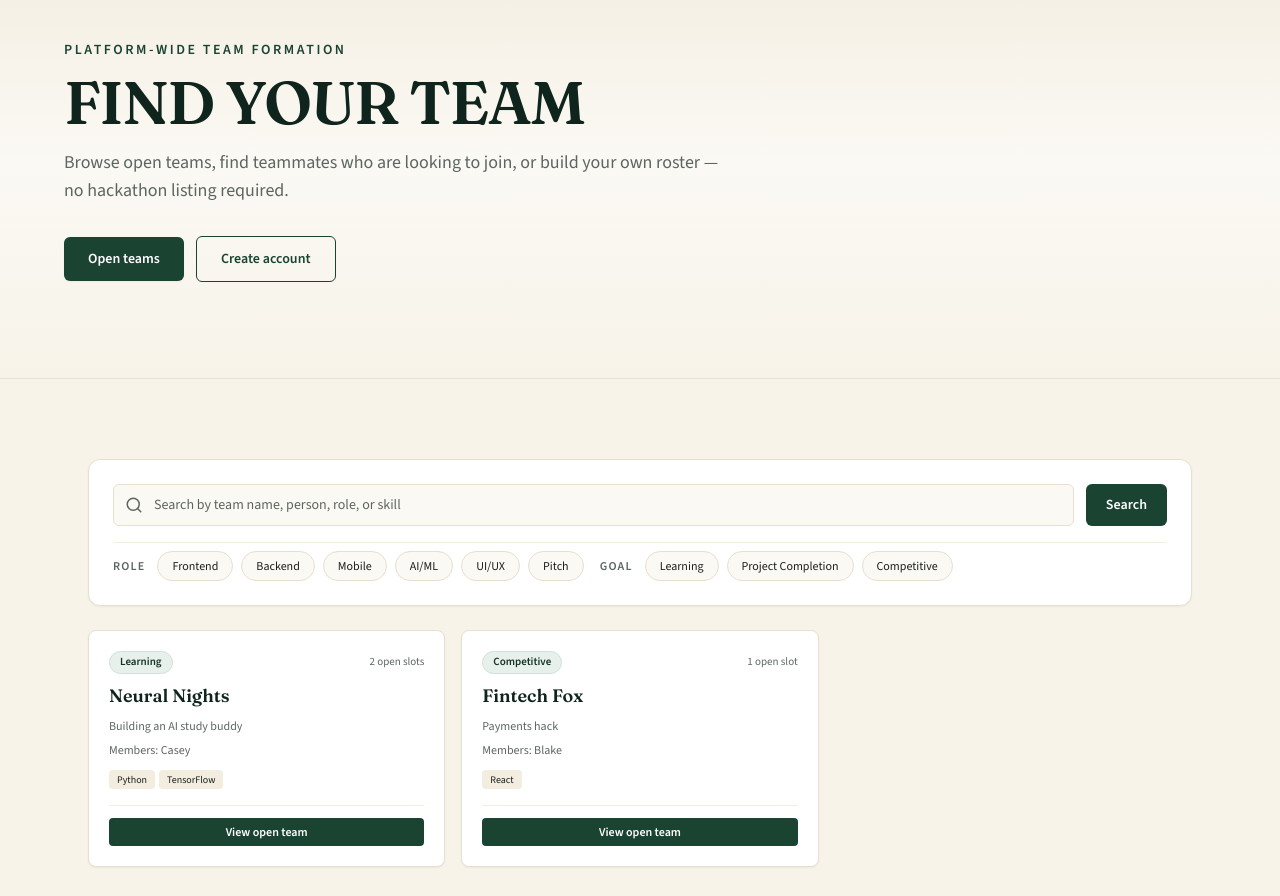
LandingPage (#361 event-free) › shows empty state when search matches nothing
Expected: the heading "Neural Nights" is shown, [109,684,230,706]
Type "zzzz-no-match" into the search field with placeholder "Search by team name, person, role, or skill".
click(593, 505); type("zzzz-no-match")  # box [113,484,1074,526]
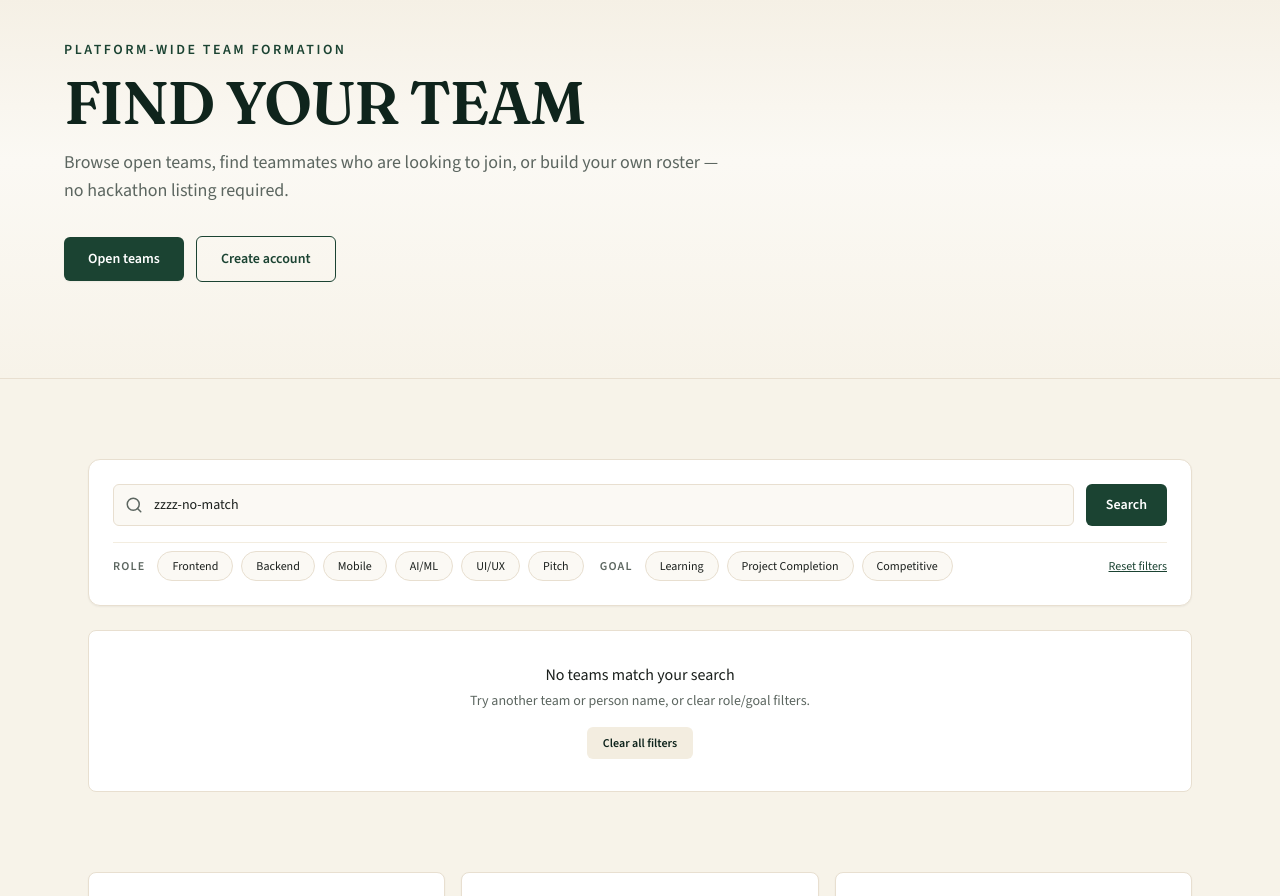
Expected: the text "No teams match your search" is shown, [545,664,735,685]
Click the button "Clear all filters".
click(640, 743)  # box [587,727,693,759]
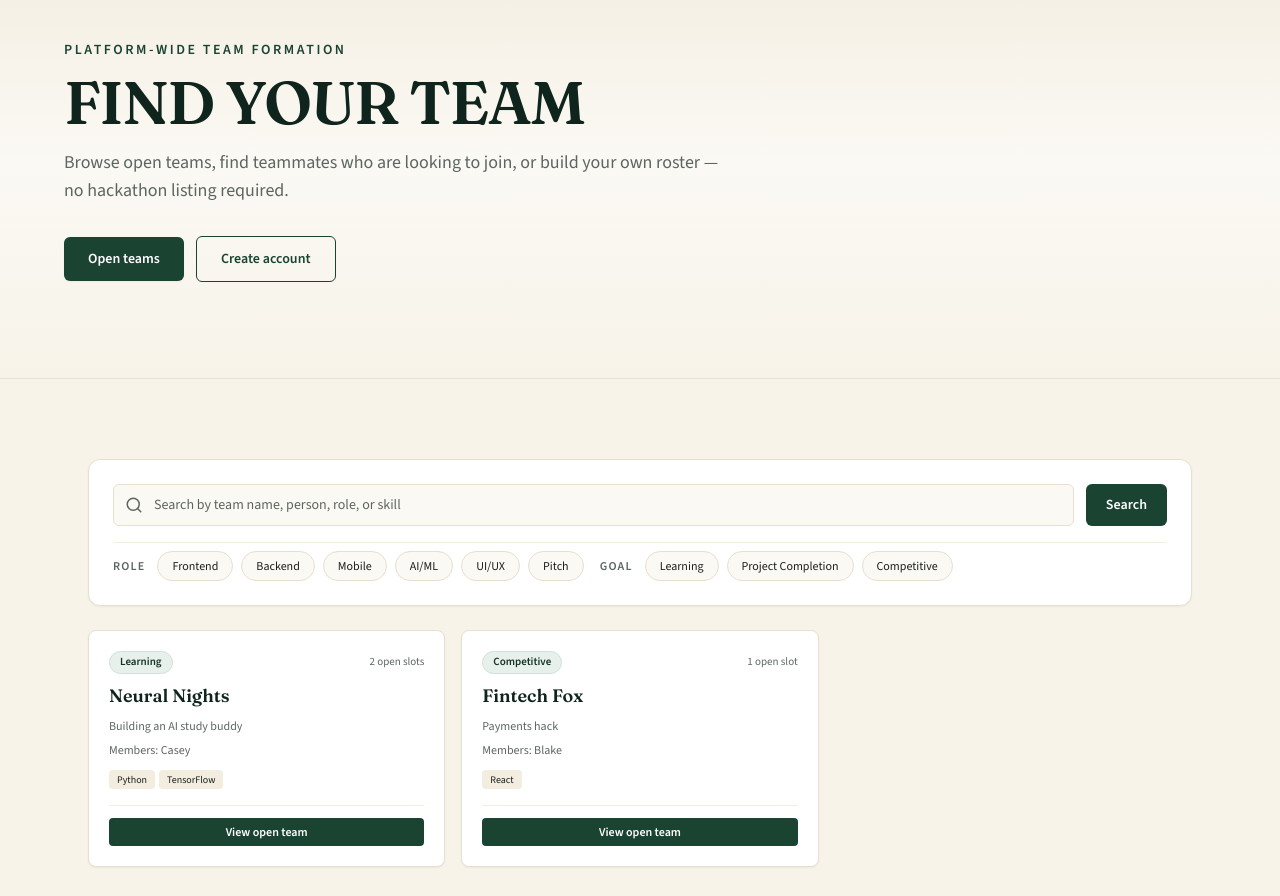
Expected: the heading "Neural Nights" is shown, [109,684,230,706]
